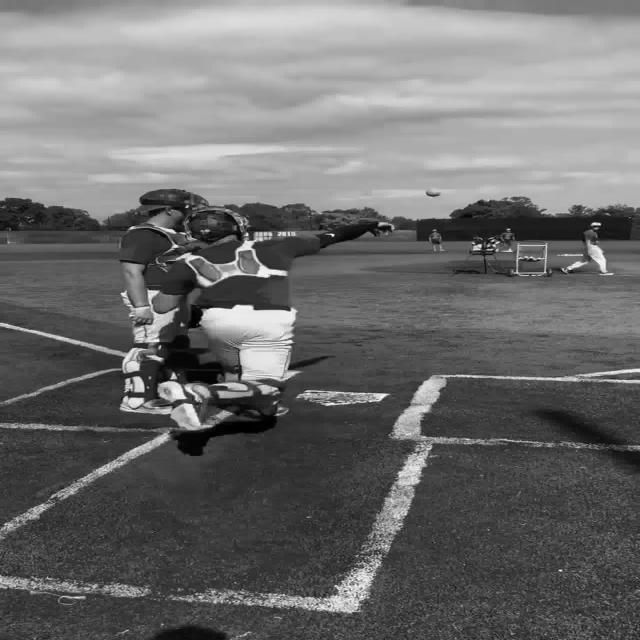base: (301, 389, 389, 408)
baseball: (425, 188, 441, 197)
shoe: (157, 381, 212, 431), (235, 401, 289, 421), (119, 396, 172, 414), (560, 267, 570, 273), (597, 272, 613, 275)
